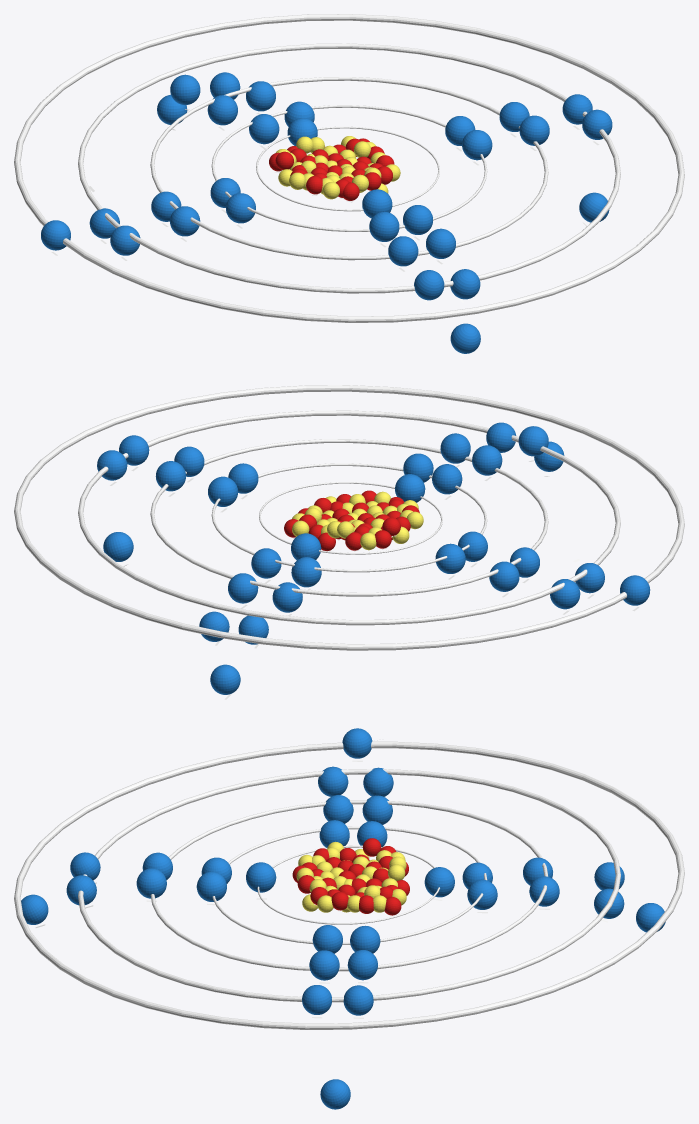
3 renders of one model, top to bottom at view 1: azimuth 30°, elevation 25°; view 2: azimuth 150°, elevation 25°; view 3: azimuth 270°, elevation 25°, orthographic.
Parts seen in each view (by area): view 1: Torus.005, Torus.004, Torus.003, Torus.002, Torus.001, g.027, g.022, g.014, g.021, g.006, g.008, g.015 (+22 smaller); view 2: Torus.005, Torus.004, Torus.003, Torus.002, Torus.001, g.029, g.015, g.006, g.014, g.009, g.008, g.022 (+23 smaller); view 3: Torus.005, Torus.004, Torus.003, Torus.002, Torus.001, g.028, g.013, g.025, g.001, g.012, g, g.023 (+18 smaller).
Part boxes in pixels (x1=…): Torus.005: x1=14, y1=14, x2=684, y2=322; Torus.004: x1=78, y1=43, x2=620, y2=293; Torus.003: x1=150, y1=77, x2=548, y2=260; Torus.002: x1=211, y1=105, x2=487, y2=231; Torus.001: x1=256, y1=126, x2=439, y2=211; g.027: x1=450, y1=323, x2=480, y2=353; g.022: x1=414, y1=270, x2=444, y2=300; g.014: x1=388, y1=236, x2=418, y2=266; g.021: x1=170, y1=74, x2=200, y2=105; g.006: x1=369, y1=211, x2=399, y2=241; g.008: x1=249, y1=114, x2=279, y2=144; g.015: x1=426, y1=228, x2=455, y2=258; Torus.005: x1=14, y1=385, x2=684, y2=650; Torus.004: x1=78, y1=410, x2=620, y2=625; Torus.003: x1=150, y1=439, x2=548, y2=596; Torus.002: x1=211, y1=463, x2=487, y2=572; Torus.001: x1=259, y1=482, x2=442, y2=554; g.029: x1=210, y1=664, x2=240, y2=694; g.015: x1=440, y1=433, x2=470, y2=463; g.006: x1=432, y1=464, x2=462, y2=494; g.014: x1=472, y1=445, x2=502, y2=475; g.009: x1=251, y1=548, x2=281, y2=578; g.008: x1=291, y1=557, x2=321, y2=587; g.022: x1=518, y1=426, x2=548, y2=456; Torus.005: x1=14, y1=741, x2=684, y2=1029; Torus.004: x1=78, y1=769, x2=620, y2=1002; Torus.003: x1=150, y1=800, x2=548, y2=971; Torus.002: x1=212, y1=826, x2=487, y2=944; Torus.001: x1=257, y1=845, x2=439, y2=924; g.028: x1=320, y1=1079, x2=350, y2=1109; g.013: x1=309, y1=950, x2=339, y2=980; g.025: x1=343, y1=985, x2=373, y2=1015; g.001: x1=246, y1=862, x2=276, y2=892; g.012: x1=347, y1=950, x2=377, y2=980; g: x1=424, y1=867, x2=454, y2=897; g.023: x1=302, y1=985, x2=331, y2=1014.
Bounding box in the file's own units: 22.37 × 4.97 × 21.89.
